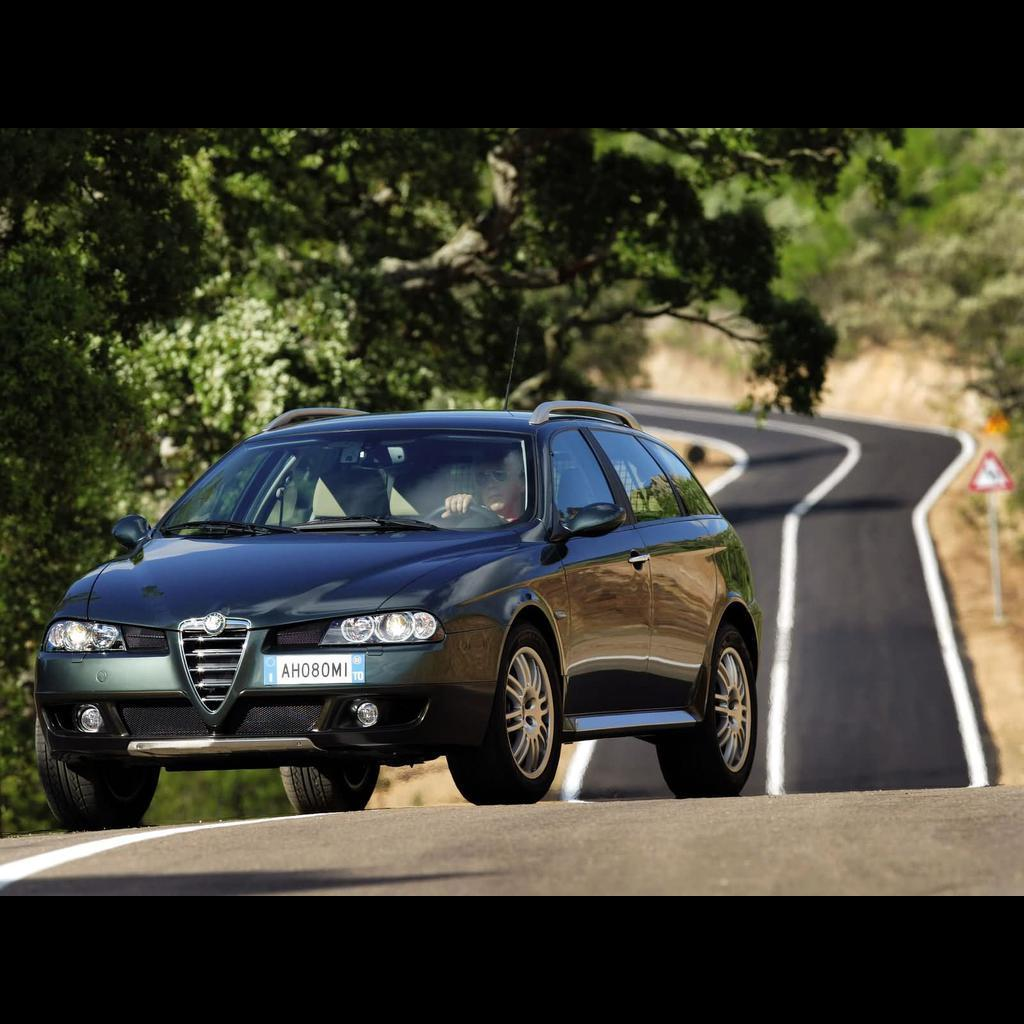aero: (333, 693, 430, 731), (38, 700, 118, 735)
bodysurface: (565, 520, 705, 710)
dlo: (549, 426, 721, 540)
fender: (485, 553, 573, 691), (690, 520, 761, 670)
frontbumper: (35, 616, 510, 753)
grill: (176, 615, 251, 713)
headlamp: (319, 609, 445, 645), (41, 618, 127, 651)
hood: (85, 529, 522, 630)
mirror: (553, 501, 627, 541)
opening: (107, 698, 331, 737), (272, 616, 331, 647), (118, 622, 166, 650)
wagon: (35, 410, 761, 831)
wheel: (505, 646, 554, 778), (714, 647, 751, 772)
